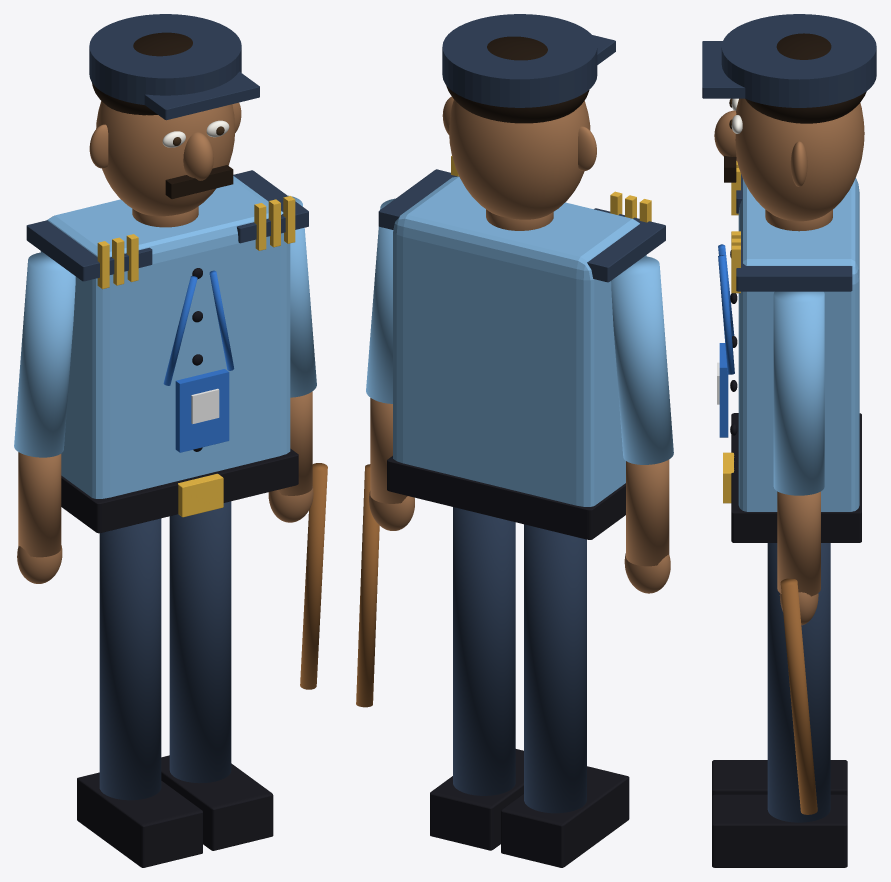
Rendered from level2GatePolice.fbx.
3 renders of one model, left to right at view 1: azimuth 30°, elevation 25°; view 2: azimuth 150°, elevation 25°; view 3: azimuth 270°, elevation 25°, orthographic.
Parts seen in each view (by area): view 1: Uniform Torso, Left Trouser Leg, Right Trouser Leg, Security Cap, Left Arm, Head, Left Shoe, Belt, Right Shoe, Left Forearm, Security Baton, Right Arm (+16 smaller); view 2: Uniform Torso, Left Trouser Leg, Right Trouser Leg, Head, Security Cap, Left Arm, Belt, Left Shoe, Right Shoe, Left Forearm, Right Arm, Security Baton (+8 smaller); view 3: Uniform Torso, Right Trouser Leg, Security Cap, Head, Right Arm, Right Shoe, Right Forearm, Security Baton, Belt, Shoulder Epaulette.001, Hair, Left Shoe (+9 smaller).
Part boxes in pixels (box(x1,y1,x2,y2)): Uniform Torso: box(40, 176, 290, 498); Left Trouser Leg: box(99, 518, 161, 800); Right Trouser Leg: box(169, 501, 231, 783); Security Cap: box(89, 14, 241, 104); Left Arm: box(14, 252, 75, 457); Head: box(96, 101, 235, 216); Left Shoe: box(77, 772, 202, 867); Belt: box(61, 448, 298, 533); Right Shoe: box(161, 755, 273, 850); Left Forearm: box(18, 452, 61, 557); Security Baton: box(300, 463, 327, 689); Right Arm: box(288, 195, 316, 397); Uniform Torso: box(393, 176, 646, 506); Left Trouser Leg: box(524, 524, 586, 813); Right Trouser Leg: box(453, 507, 515, 795); Head: box(449, 99, 590, 219); Security Cap: box(442, 14, 597, 107); Left Arm: box(611, 256, 673, 464); Belt: box(387, 456, 625, 539); Left Shoe: box(501, 766, 629, 867); Right Shoe: box(430, 749, 523, 850); Left Forearm: box(626, 459, 669, 566); Right Arm: box(366, 198, 395, 403); Security Baton: box(356, 464, 379, 707); Uniform Torso: box(738, 178, 859, 511); Right Trouser Leg: box(767, 543, 830, 822); Security Cap: box(721, 14, 876, 107); Head: box(735, 98, 864, 221); Right Arm: box(773, 291, 824, 495); Right Shoe: box(712, 794, 847, 867); Right Forearm: box(777, 491, 820, 596); Security Baton: box(780, 578, 817, 814); Belt: box(731, 413, 861, 542); Shoulder Epaulette.001: box(736, 242, 852, 291); Hair: box(745, 33, 866, 123); Left Shoe: box(712, 760, 847, 795).
Size of what is drawn, in the model's own units: 148 by 361 by 72.
